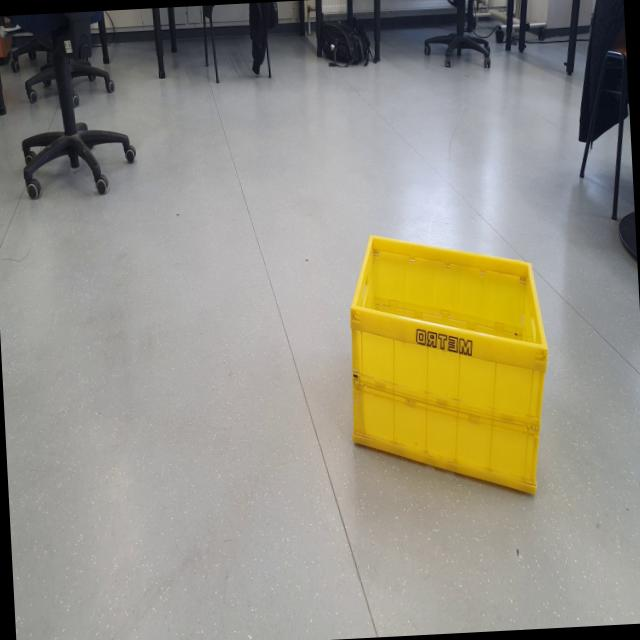box: (333, 220, 566, 517)
